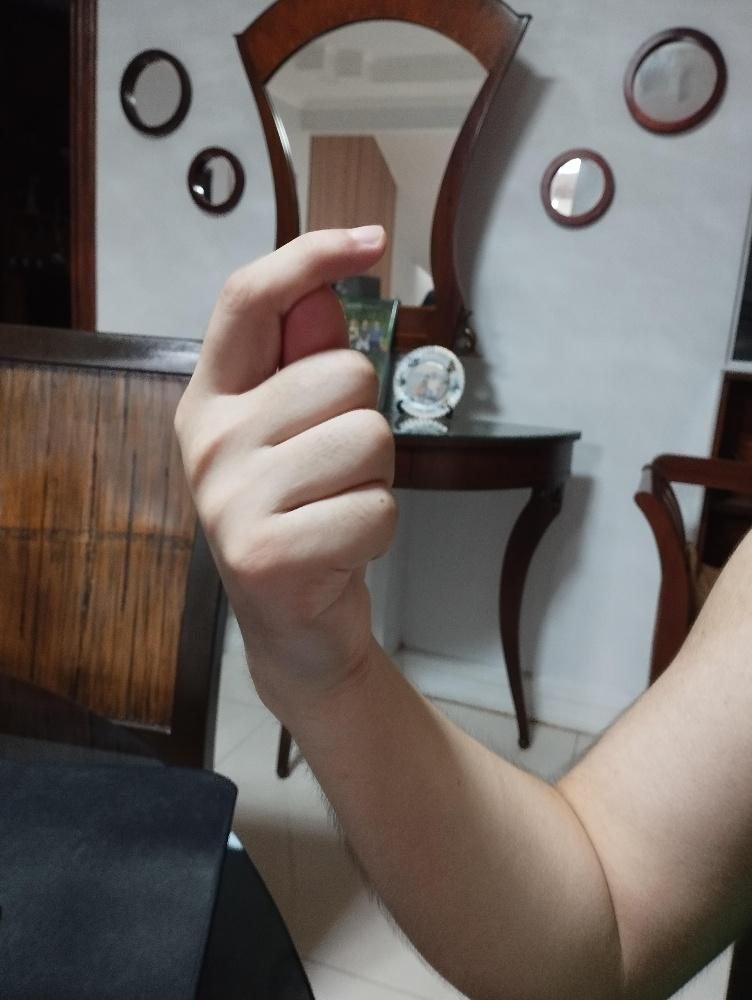t: (169, 221, 403, 692)
